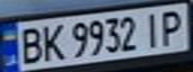2: (118, 12, 142, 52)
3: (103, 15, 124, 54)
9: (66, 18, 90, 58), (87, 17, 106, 56)
B: (15, 25, 45, 65)
I: (139, 9, 166, 48)
K: (36, 21, 66, 62)
P: (154, 7, 190, 47)
